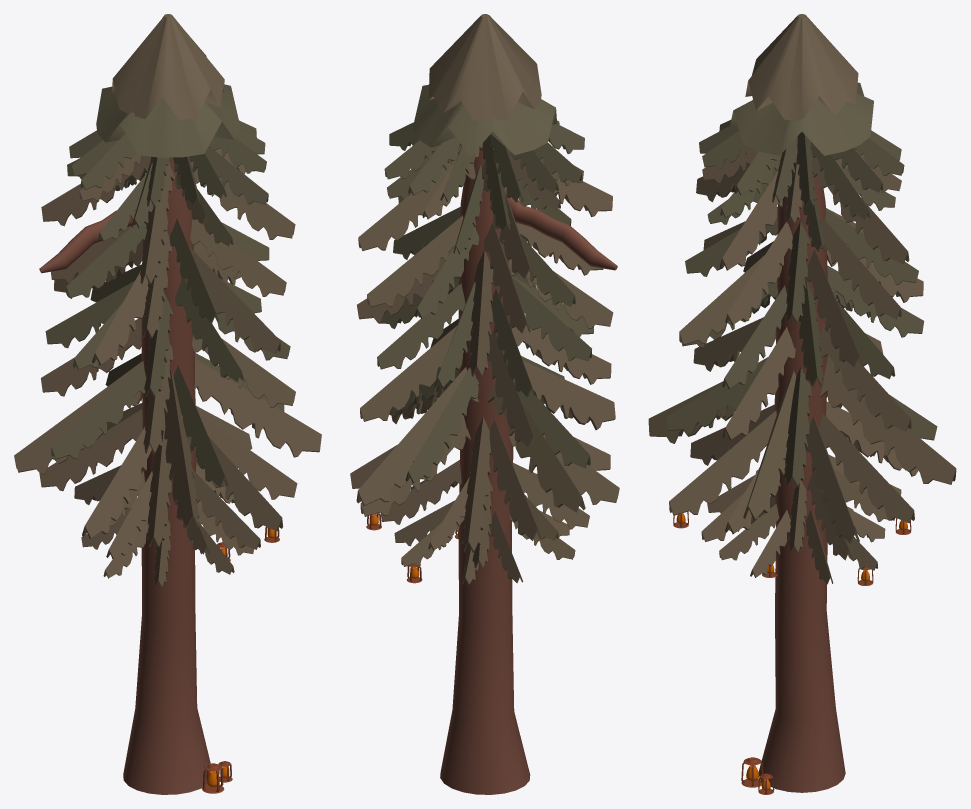
The model's file is Lowpoly_Detailed_Tree_Lamps.fbx.
The picture shows the model from 3 angles, left to right: view 1: azimuth 30°, elevation 25°; view 2: azimuth 150°, elevation 25°; view 3: azimuth 270°, elevation 25°; orthographic projection.
Parts seen in each view (by area): view 1: Lowpoly_Detailed_Tree_Lamps; view 2: Lowpoly_Detailed_Tree_Lamps; view 3: Lowpoly_Detailed_Tree_Lamps.
Part boxes in pixels (x1,y1,x2,y2): Lowpoly_Detailed_Tree_Lamps: (14, 14, 321, 794); Lowpoly_Detailed_Tree_Lamps: (350, 14, 619, 794); Lowpoly_Detailed_Tree_Lamps: (648, 14, 956, 794).
Size of the model in its own units: 9.75 by 27.6 by 10.17.
